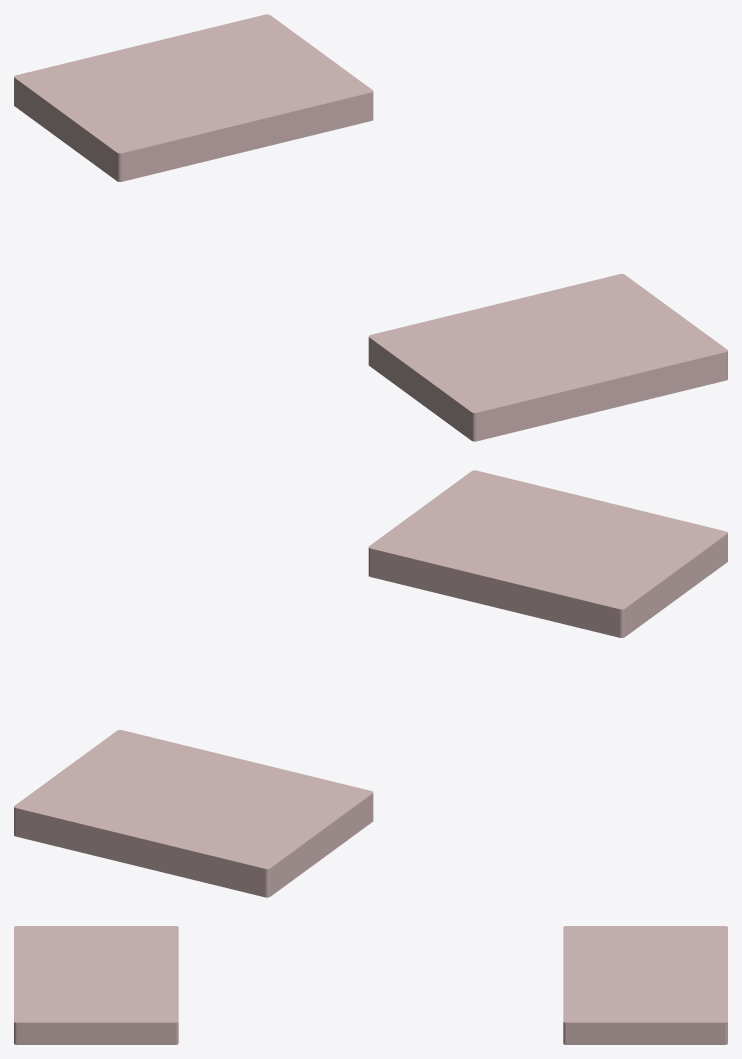
Rendered from OUTFITTING_INTERIOR__INT. FURNISHING__dbl mattress.glb.
3 renders of one model, top to bottom at view 1: azimuth 30°, elevation 25°; view 2: azimuth 150°, elevation 25°; view 3: azimuth 270°, elevation 25°, orthographic. The views are drawn at different scales.
Visible parts, largest first — view 1: dbl mattress; view 2: dbl mattress; view 3: dbl mattress.
Part boxes in pixels (<box>): dbl mattress: <box>14,14,727,441</box>; dbl mattress: <box>14,470,727,897</box>; dbl mattress: <box>14,926,727,1044</box>.
Bounding box in the file's own units: 1.91 × 0.2032 × 5.94.
